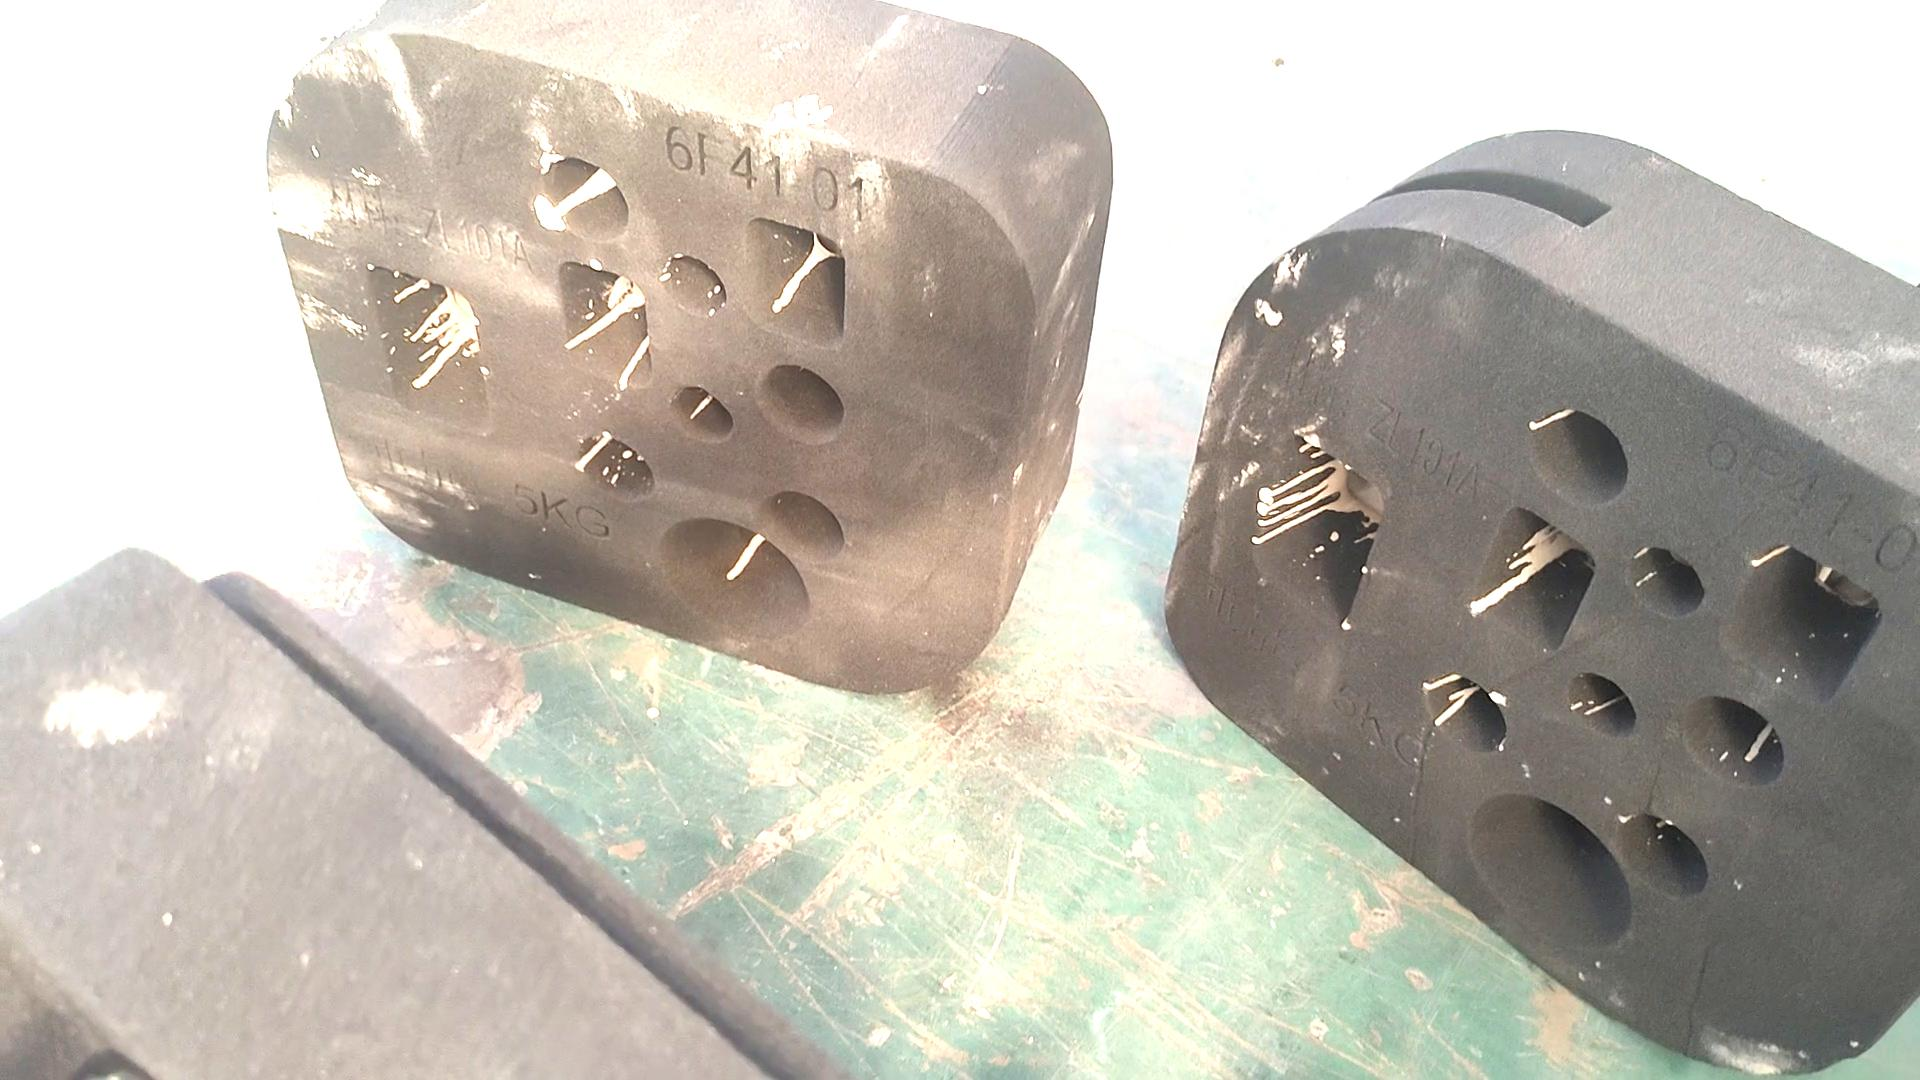pouring hole: (1468, 794, 1633, 948), (659, 517, 811, 640)
